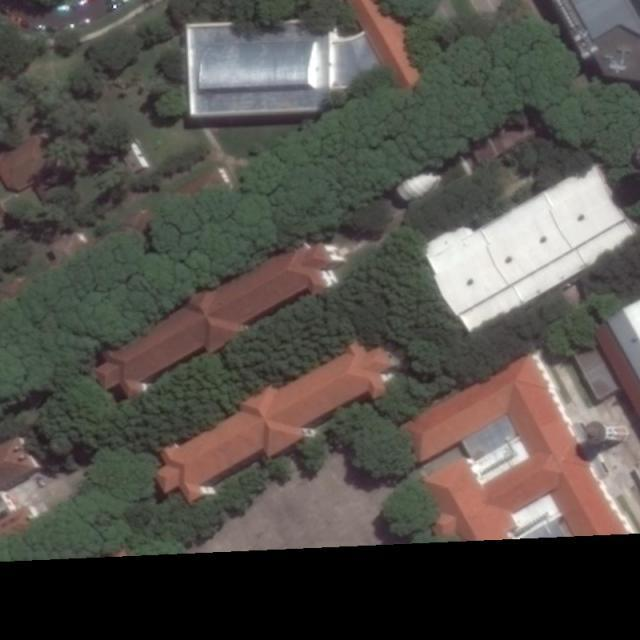vehicle: (10, 14, 29, 28), (106, 1, 126, 14), (76, 18, 93, 29), (1, 5, 14, 18), (62, 22, 76, 34), (32, 24, 48, 34), (36, 475, 48, 488), (75, 1, 88, 10), (48, 25, 59, 34), (57, 5, 72, 11), (106, 1, 119, 6)
